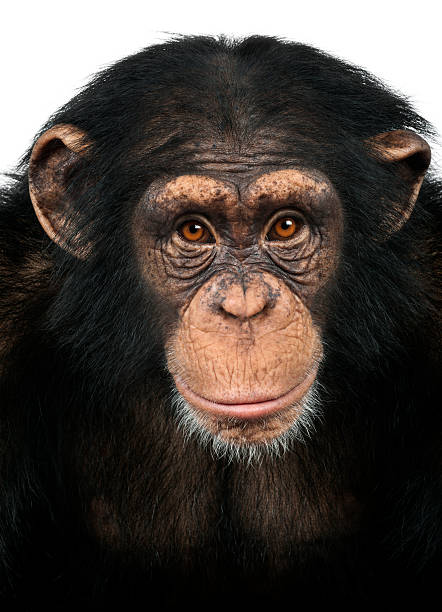chimpanzee: (7, 22, 442, 548)
